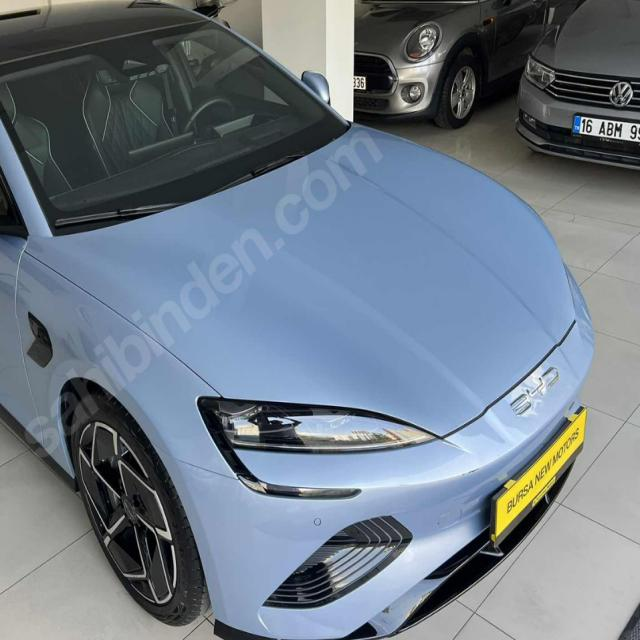byd: (505, 362, 565, 416)
